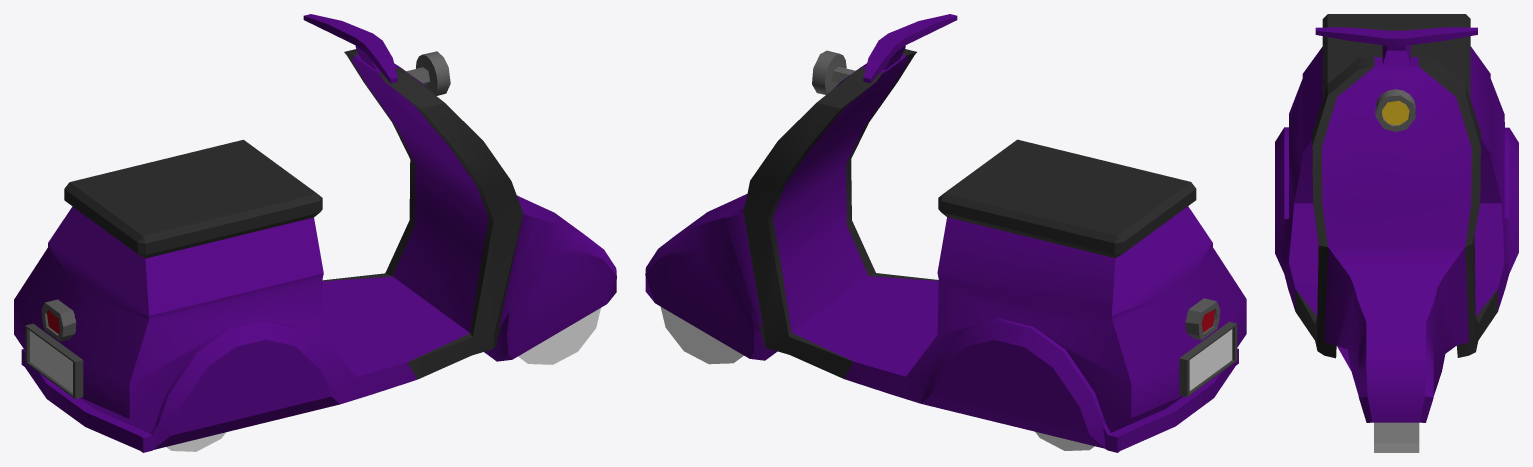
The model's file is Scooter_faceDelete.fbx.
The picture shows the model from 3 angles, left to right: view 1: azimuth 30°, elevation 25°; view 2: azimuth 150°, elevation 25°; view 3: azimuth 270°, elevation 25°; orthographic projection. The views are drawn at different scales.
Parts seen in each view (by area): view 1: Scooter, Plate, Cylinder.004, Headlight, Tail Light; view 2: Scooter, Plate, Cylinder.004, Headlight, Tail Light; view 3: Scooter, Cylinder.004, Headlight.
Part boxes in pixels (box(x1,y1,x2,y2)): Scooter: box(14, 14, 616, 452); Plate: box(25, 323, 83, 398); Cylinder.004: box(518, 308, 600, 364); Headlight: box(406, 51, 450, 95); Tail Light: box(41, 299, 76, 341); Scooter: box(645, 14, 1246, 452); Plate: box(1179, 321, 1237, 396); Cylinder.004: box(660, 307, 743, 364); Headlight: box(812, 50, 855, 94); Tail Light: box(1185, 298, 1220, 340); Scooter: box(1275, 14, 1518, 422); Cylinder.004: box(1374, 422, 1419, 452); Headlight: box(1375, 89, 1415, 131).
Size of the model in its own units: 827 by 512 by 337.
